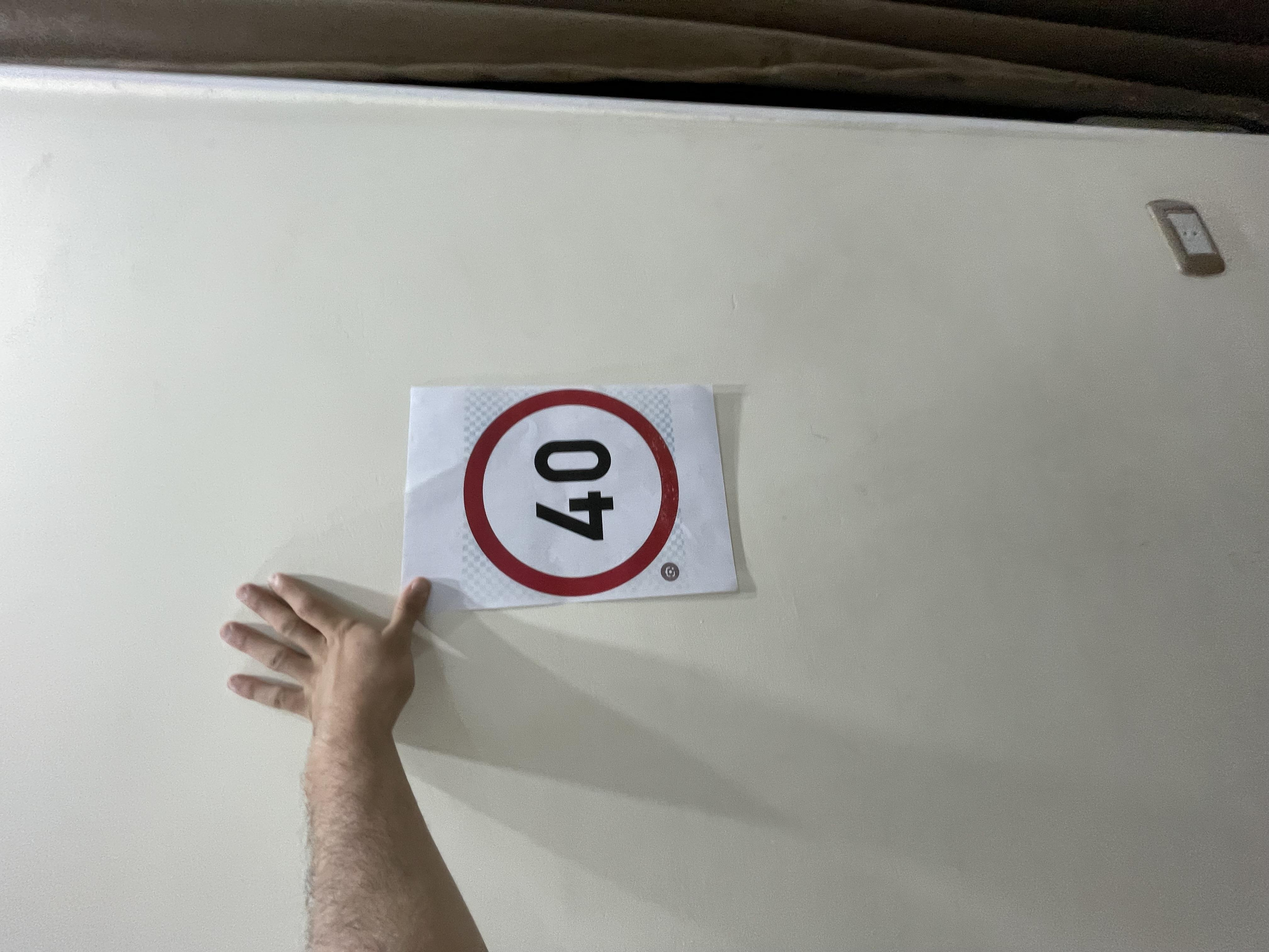40-Speed: (469, 350, 752, 510)
